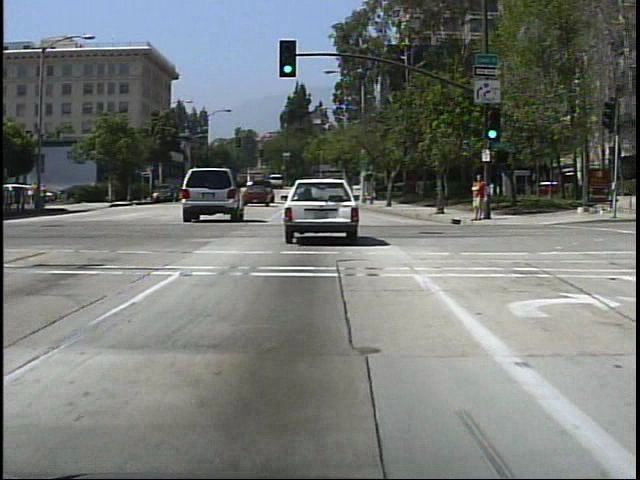person: (467, 171, 490, 226), (31, 179, 42, 212), (39, 183, 51, 210)
